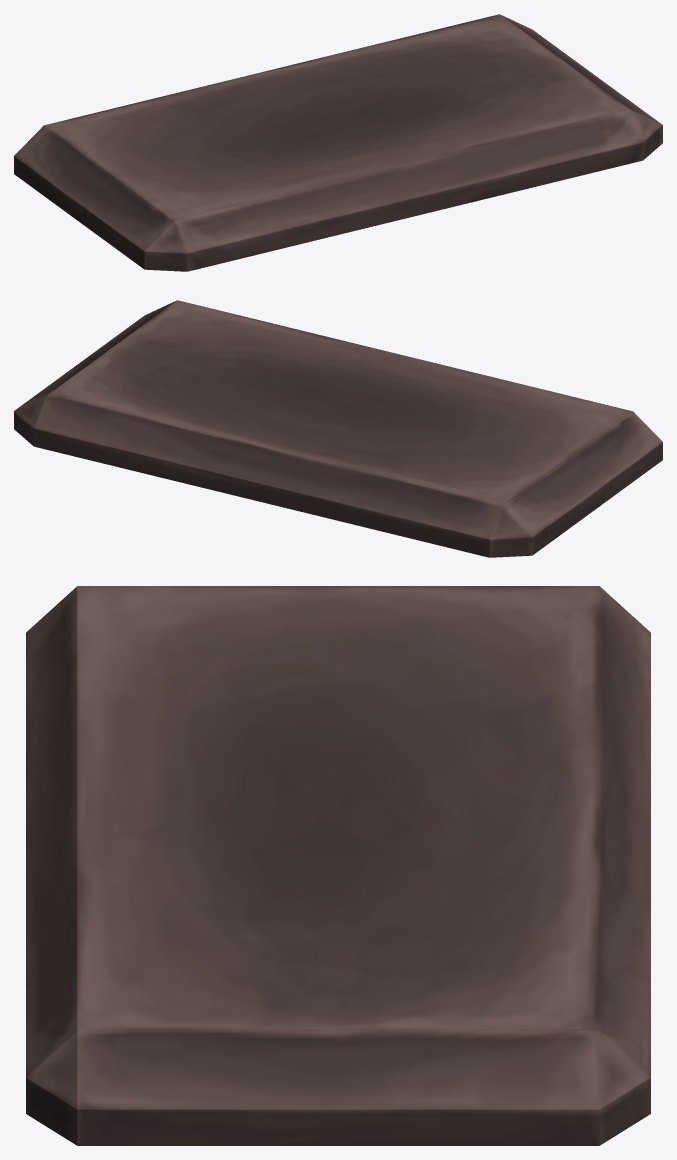
The model's file is rock_16.fbx.
The picture shows the model from 3 angles, top to bottom: view 1: azimuth 30°, elevation 25°; view 2: azimuth 150°, elevation 25°; view 3: azimuth 270°, elevation 25°; orthographic projection. The views are drawn at different scales.
Visible parts, largest first — view 1: rock_16; view 2: rock_16; view 3: rock_16.
Boxes of the visible parts, x1,y1,x2,y2 form: rock_16: [14, 14, 662, 271]; rock_16: [14, 300, 662, 557]; rock_16: [26, 586, 650, 1145].
Bounding box in the file's own units: 1.65 × 0.1262 × 0.8627.
